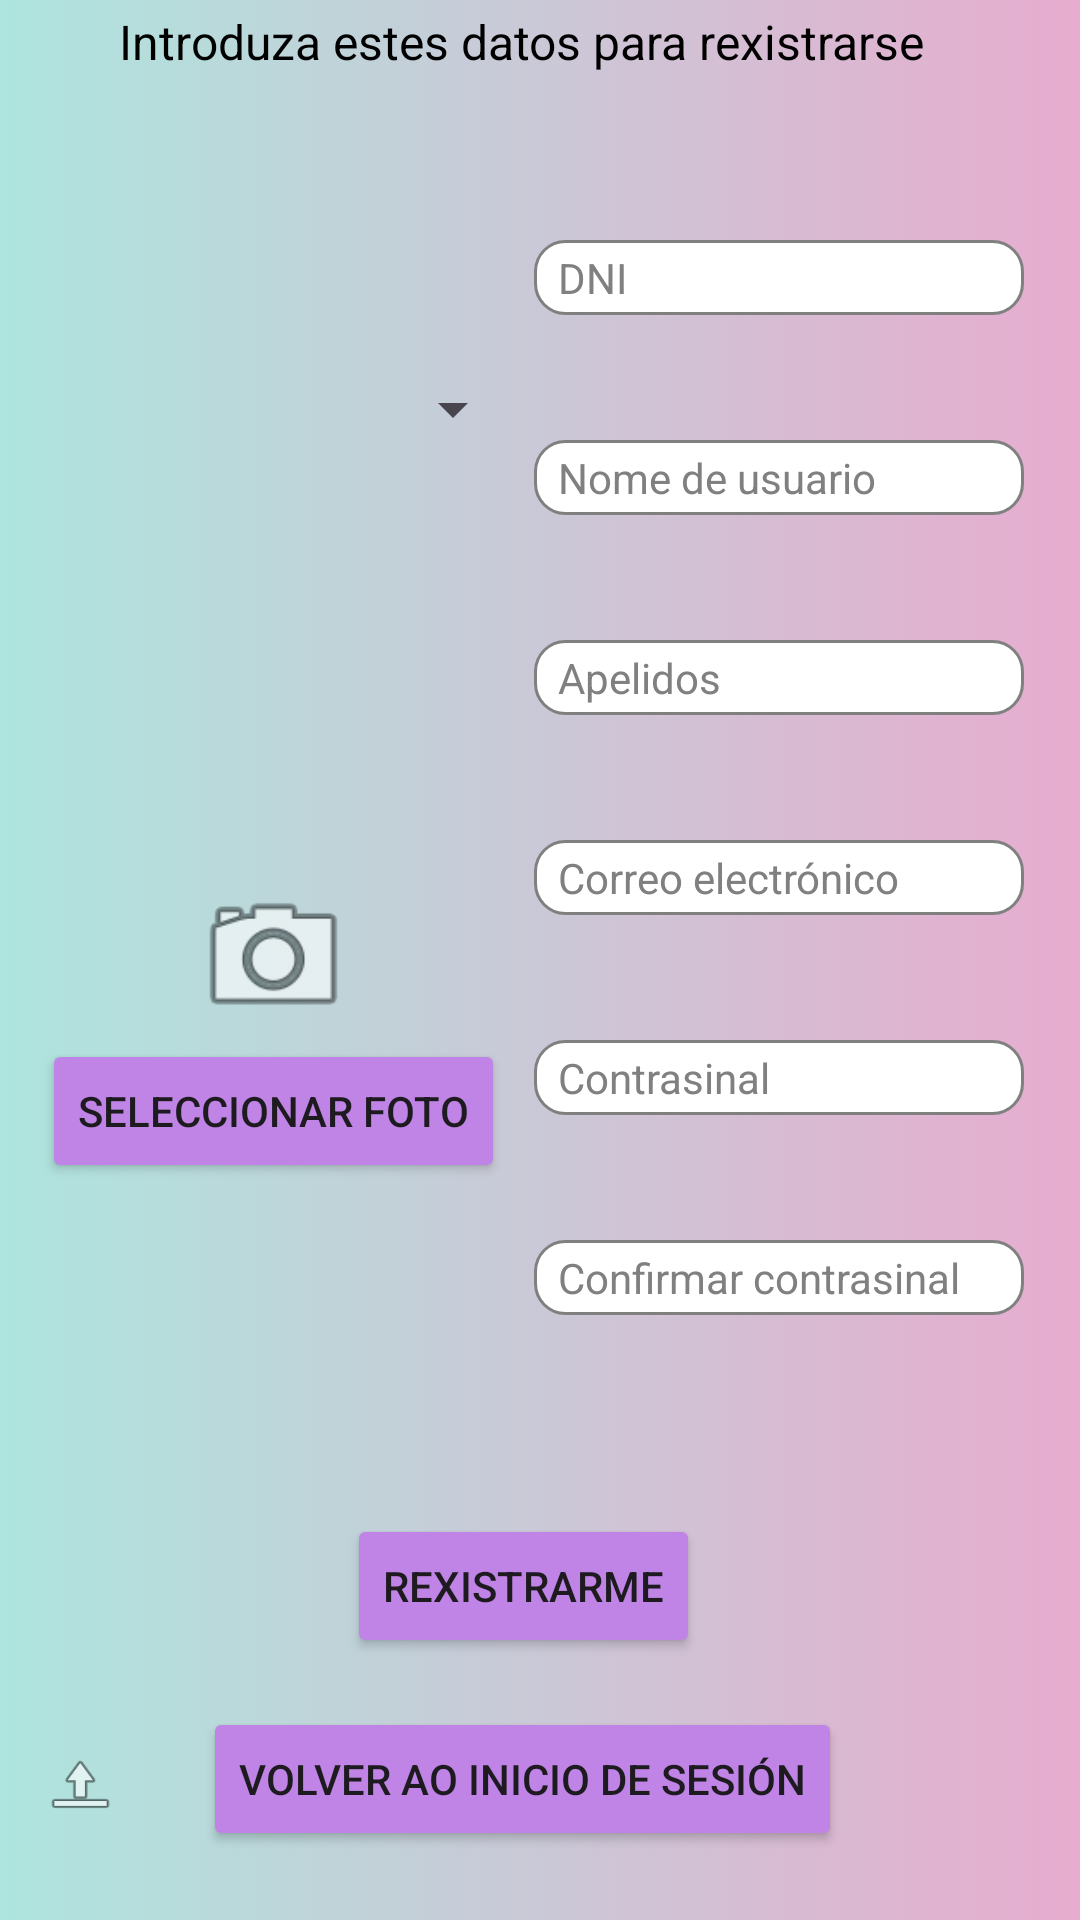

Icons on this 1080x1920 Android screen, each with its box as (x1, y1, x2, y2):
camera: (210, 903, 337, 1005)
upload: (52, 1761, 110, 1808)
